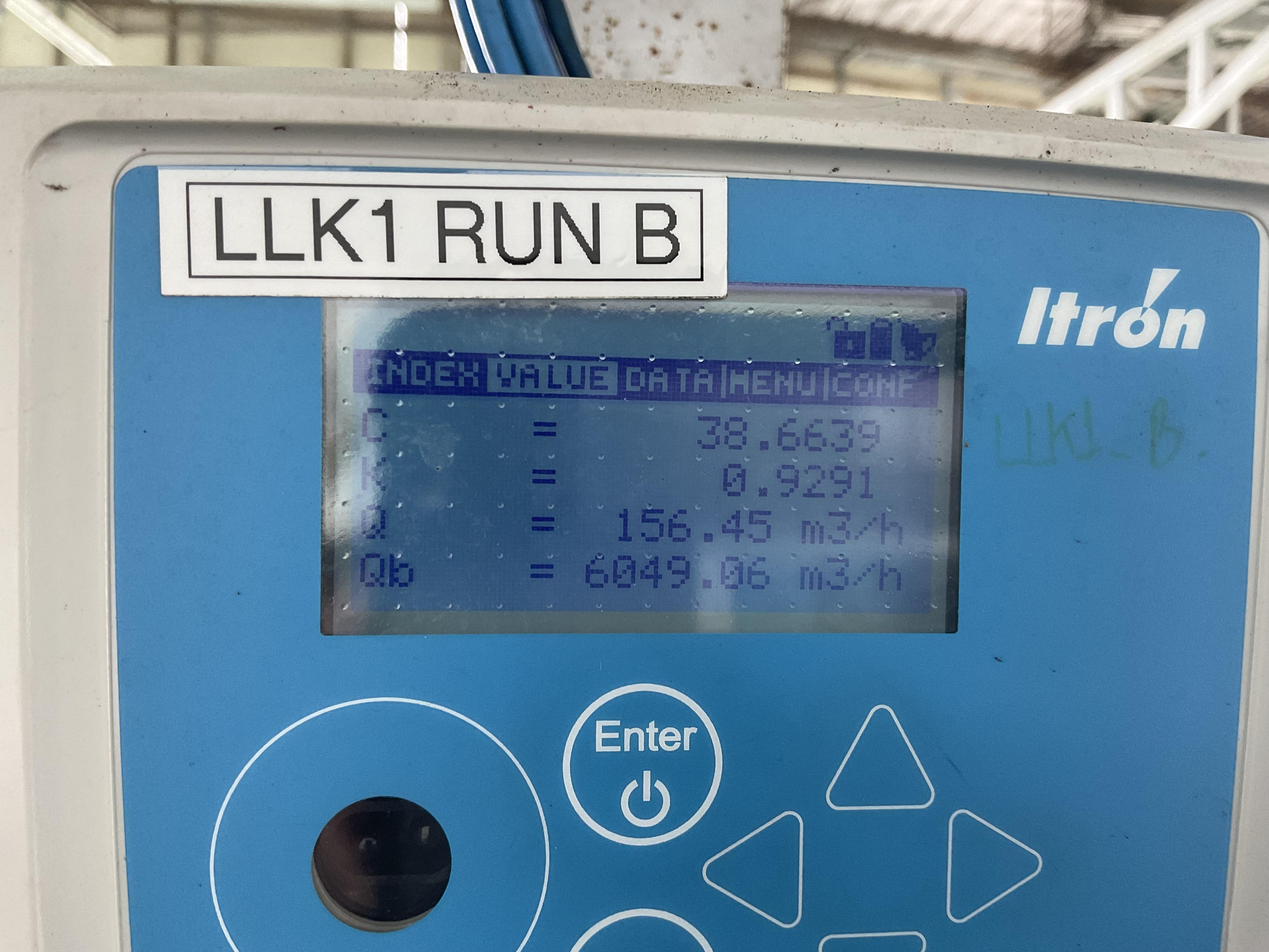digital_screen: (325, 282, 965, 638)
